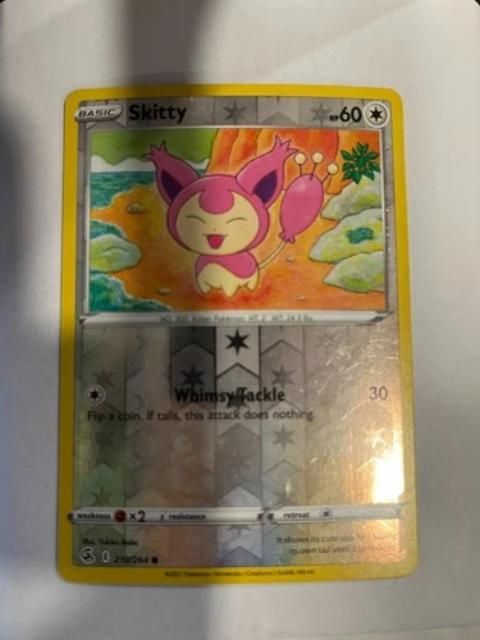Card: (51, 78, 426, 589)
Name: (120, 96, 189, 125)
